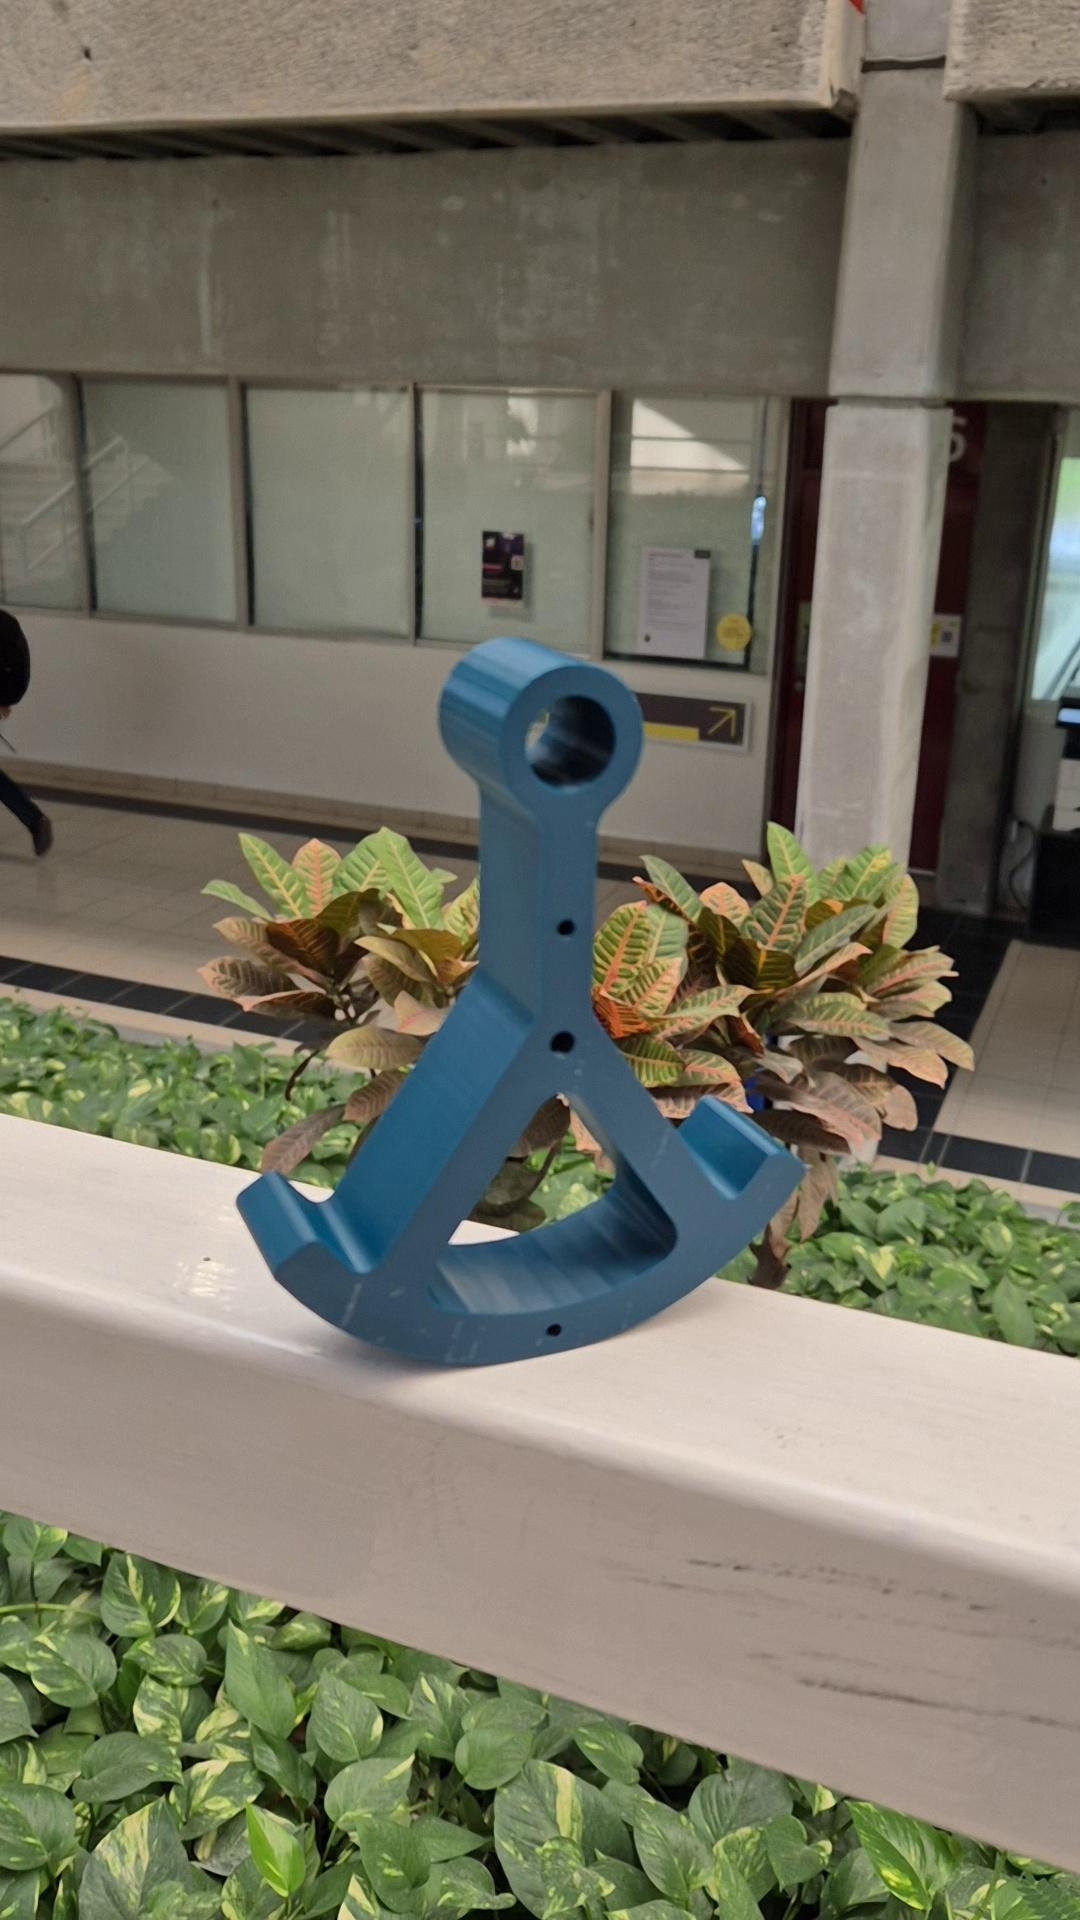Paddles: (232, 632, 811, 1371)
